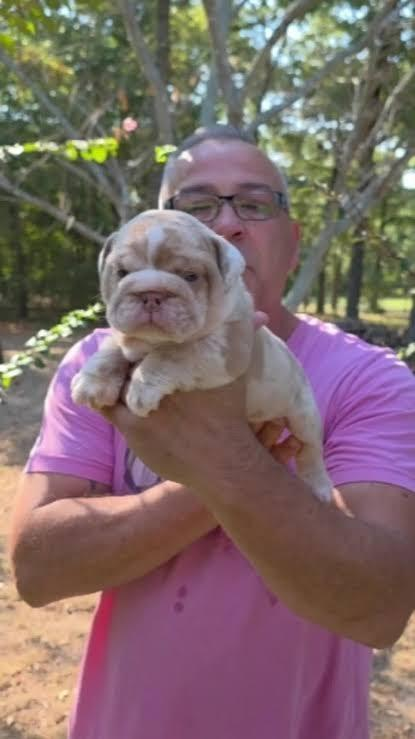non-dog: (4, 124, 415, 739)
puppy-dog: (68, 206, 334, 505)
